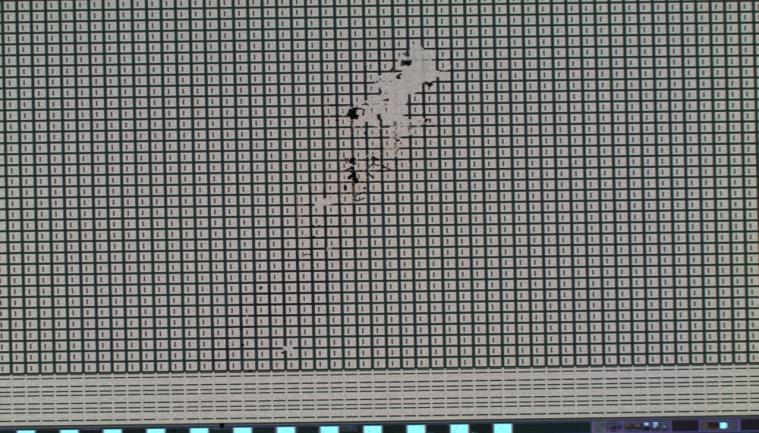BLOCK ETCH: (277, 38, 442, 362)
